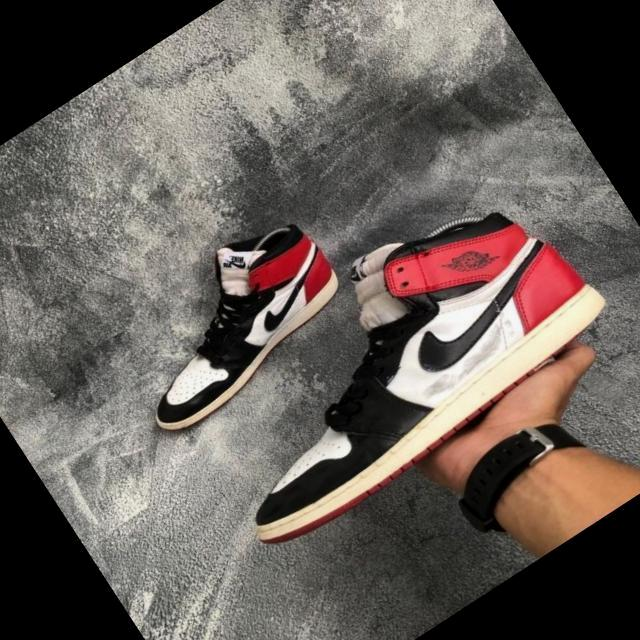nike_fake_jordan: (157, 151, 628, 560), (86, 202, 364, 450)
